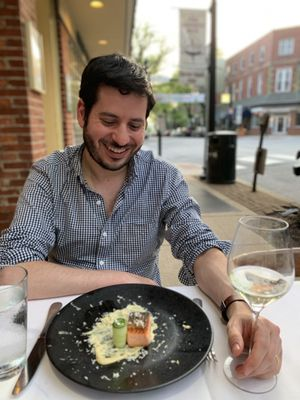sandwich: (11, 302, 63, 397)
